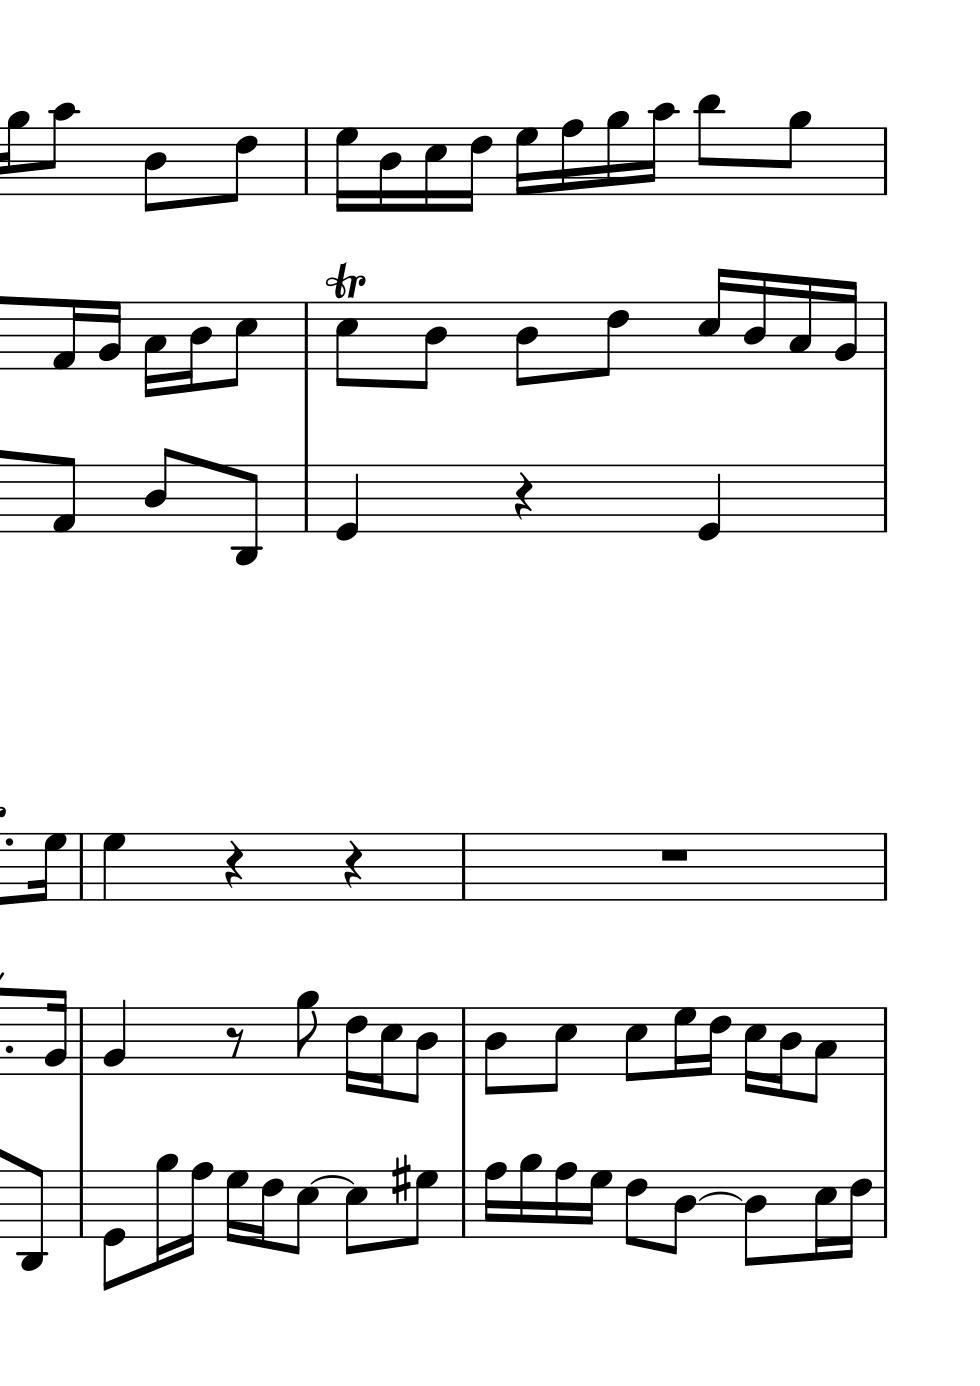16_1: (51, 297, 83, 373)
16_10: (642, 101, 678, 198)
16_2: (833, 278, 858, 372), (42, 988, 68, 1076), (97, 299, 122, 371)
16_3: (786, 275, 813, 371), (141, 300, 167, 399)
16_4: (179, 300, 211, 394), (772, 1005, 802, 1099), (742, 271, 769, 371), (377, 125, 402, 214)
16_5: (697, 265, 731, 372), (420, 125, 447, 214), (812, 1166, 836, 1260), (742, 1006, 766, 1094)
16_6: (458, 125, 492, 214), (838, 1168, 871, 1259), (253, 1168, 282, 1250), (343, 1005, 367, 1094), (701, 1005, 731, 1077)
16_7: (30, 831, 67, 903), (333, 125, 358, 215), (581, 1168, 613, 1239), (512, 125, 539, 200), (671, 1005, 697, 1080), (224, 1168, 248, 1245)
16_8: (180, 1160, 212, 1259), (558, 118, 584, 197), (482, 1160, 507, 1239), (552, 1161, 577, 1240)
16_9: (153, 1152, 177, 1268), (1, 108, 28, 196), (603, 109, 630, 197), (517, 1152, 542, 1240)
4_0: (333, 463, 360, 543), (697, 462, 722, 543)
4_2: (101, 998, 127, 1076)
4_7: (100, 831, 126, 902)
8_-3: (17, 1165, 46, 1273), (233, 462, 261, 567)
8_0: (101, 1168, 126, 1289)
8_1: (50, 455, 77, 536)
8_10: (43, 101, 77, 197)
8_11: (694, 92, 724, 197)
8_3: (808, 1006, 838, 1105)
8_4: (412, 300, 448, 392), (409, 1005, 439, 1105), (142, 448, 175, 534), (664, 1169, 696, 1256), (742, 1169, 767, 1268), (482, 1006, 508, 1096), (512, 300, 539, 389), (141, 125, 167, 215)
8_5: (543, 1006, 578, 1094), (224, 300, 257, 389), (287, 1168, 319, 1256), (372, 1005, 402, 1099), (343, 1166, 369, 1256), (333, 300, 358, 389), (623, 1006, 648, 1084)
8_6: (594, 299, 630, 379), (222, 126, 257, 205), (623, 1168, 648, 1249)
8_7: (404, 1168, 437, 1246)
8_9: (776, 109, 812, 197), (294, 990, 319, 1078)
Rests1: (657, 844, 692, 863)
Rests4: (222, 839, 245, 891), (342, 839, 364, 892), (512, 470, 535, 522)
Rests8: (225, 1025, 245, 1059)
Sharp: (389, 1153, 412, 1206)
Single_barline: (297, 127, 316, 195), (73, 1007, 90, 1076), (297, 464, 314, 532), (876, 464, 893, 532), (876, 834, 893, 901), (298, 302, 315, 369), (455, 834, 471, 902), (877, 1170, 893, 1239), (455, 1170, 471, 1238), (877, 128, 893, 195), (73, 1171, 89, 1236), (877, 302, 892, 370), (877, 1007, 892, 1075), (456, 1008, 471, 1075), (74, 834, 89, 899)
Slur: (309, 1173, 355, 1187), (698, 1191, 742, 1203)
Trill: (323, 260, 367, 302)
dot: (2, 834, 15, 848)
